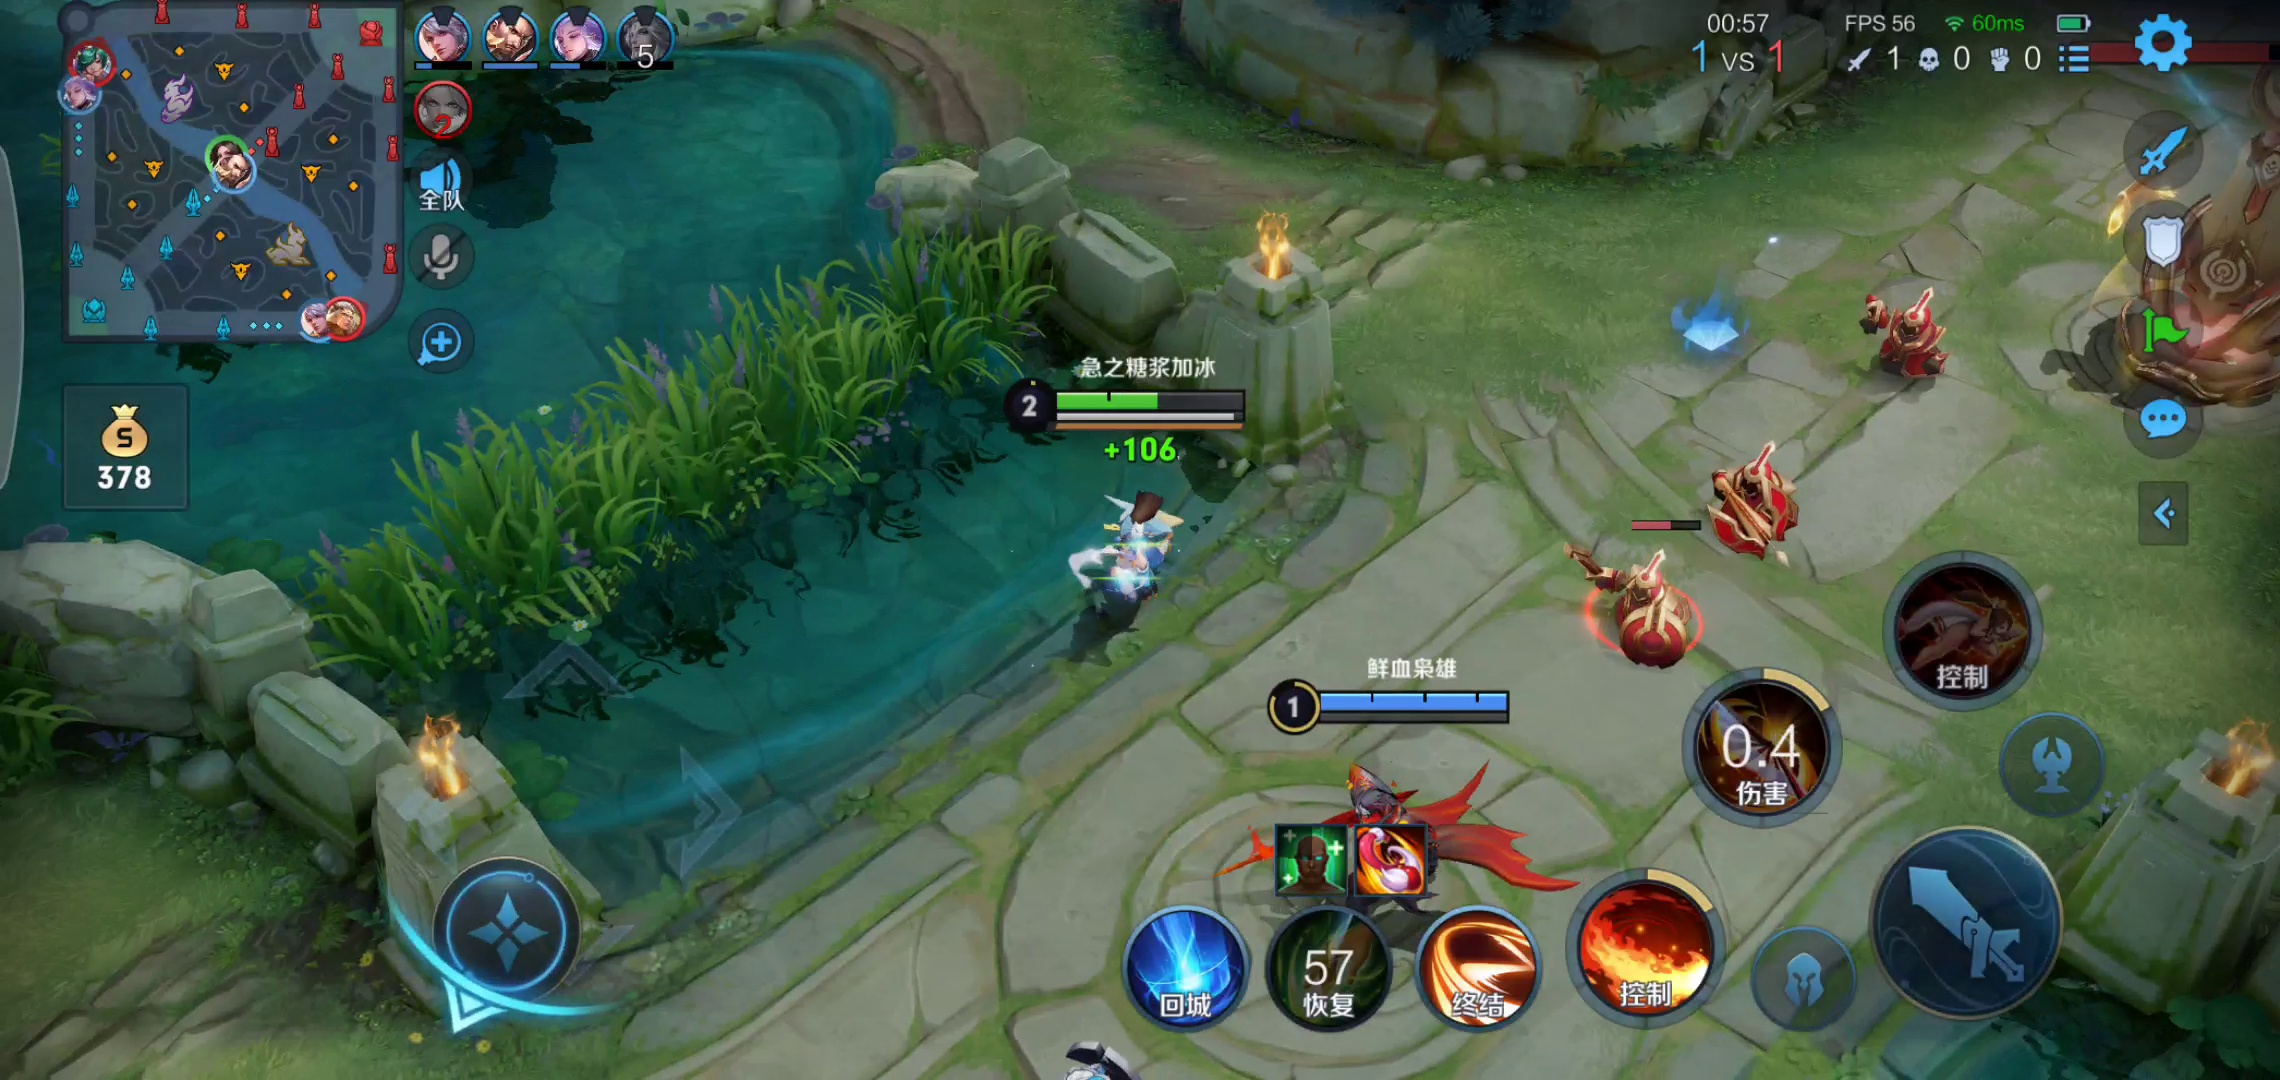grass: (273, 214, 1040, 686)
hero: (1237, 756, 1565, 951), (1048, 480, 1192, 616)
soldier: (1556, 535, 1695, 666), (1694, 440, 1825, 560), (1837, 278, 1964, 392)
tower: (2065, 93, 2280, 390)
